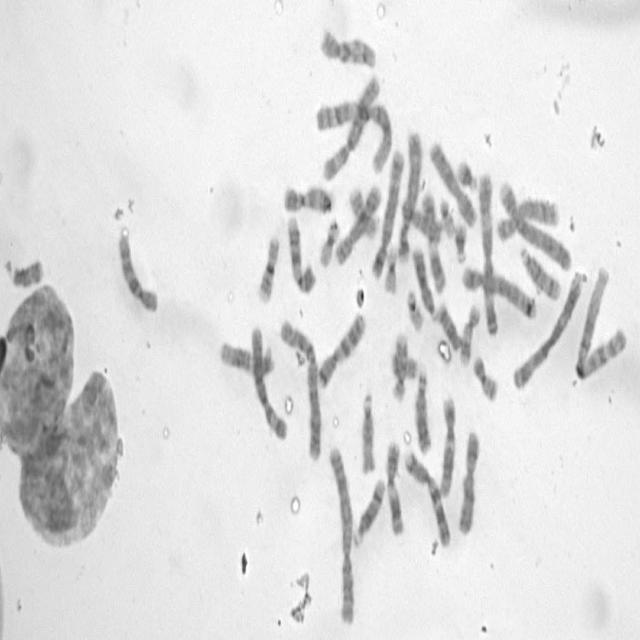A1: (574, 264, 627, 382), (313, 96, 393, 174)
A2: (278, 314, 322, 463), (326, 442, 356, 626)
A3: (510, 268, 583, 390), (476, 170, 499, 338)
B4: (498, 176, 572, 273), (396, 127, 422, 264)
B5: (369, 144, 405, 280), (460, 261, 538, 322)
C10: (115, 225, 159, 315), (319, 24, 377, 70)
C11: (420, 188, 447, 294), (384, 436, 406, 538)
C12: (217, 336, 276, 378), (435, 392, 457, 500)
C6: (320, 72, 382, 186), (248, 321, 288, 442)
C7: (401, 445, 453, 549), (316, 307, 366, 390)
C8: (333, 180, 382, 266), (495, 194, 560, 243)
C9: (285, 212, 317, 295), (282, 182, 334, 215)
D13: (410, 242, 439, 323), (413, 364, 433, 456)
D14: (351, 472, 386, 548), (518, 242, 562, 302)
D15: (399, 194, 444, 243), (359, 388, 376, 477)
E16: (346, 182, 379, 240), (256, 230, 281, 304)
E17: (457, 301, 481, 367), (389, 329, 408, 402)
E18: (435, 301, 461, 351), (9, 254, 44, 288)
F19: (318, 216, 340, 269), (382, 238, 399, 296)
F20: (470, 349, 500, 403), (388, 346, 418, 381)
G21: (454, 154, 478, 193), (453, 218, 468, 266)
G22: (404, 284, 426, 334), (437, 194, 456, 239)
X: (427, 138, 478, 229), (456, 425, 481, 537)
